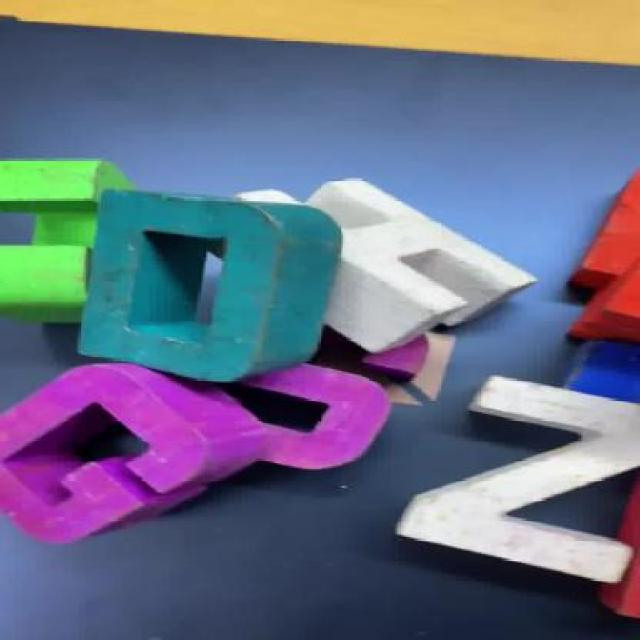D: (88, 194, 360, 398)
G: (0, 364, 274, 542)
H: (262, 176, 523, 355)
Z: (355, 351, 639, 600)
